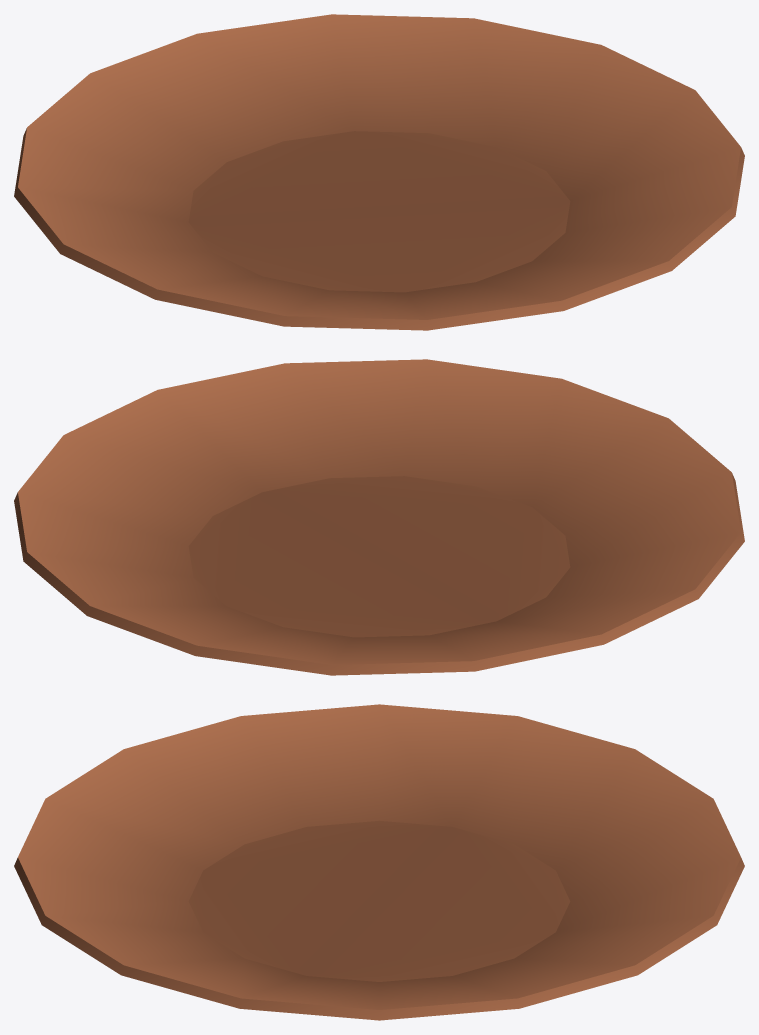
Rendered from obj_plateRound_A_LOW.FBX.
3 views of the same model, one above another, from view 1: azimuth 30°, elevation 25°; view 2: azimuth 150°, elevation 25°; view 3: azimuth 270°, elevation 25° (orthographic).
Visible parts, largest first — view 1: obj_plateRound_A_LOW; view 2: obj_plateRound_A_LOW; view 3: obj_plateRound_A_LOW.
Part boxes in pixels (x1,y1,x2,y2): obj_plateRound_A_LOW: [14, 14, 744, 330]; obj_plateRound_A_LOW: [14, 359, 744, 675]; obj_plateRound_A_LOW: [14, 704, 744, 1020].
Size of the model in its own units: 1.33 by 0.1165 by 1.33.
